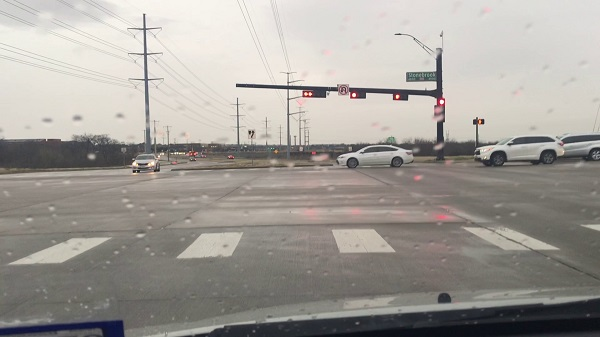car: (475, 135, 566, 169), (337, 143, 415, 170), (561, 132, 600, 161), (130, 153, 162, 172)
